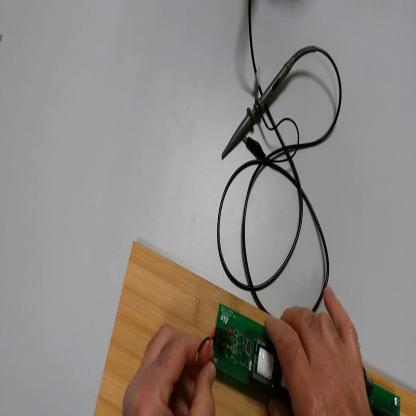hand: (265, 283, 371, 412), (124, 322, 218, 413)
high voltage board: (196, 307, 401, 414)
oscilloscope probe tip: (222, 57, 300, 161)
working area: (96, 245, 416, 416)
